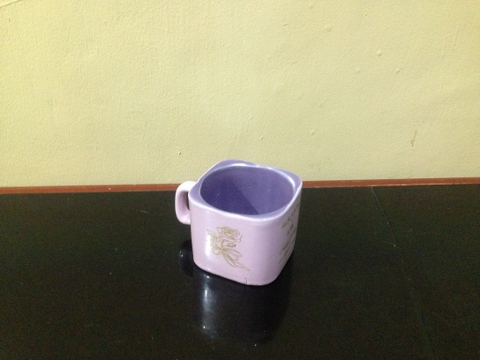tempat minum: (174, 159, 302, 288)
